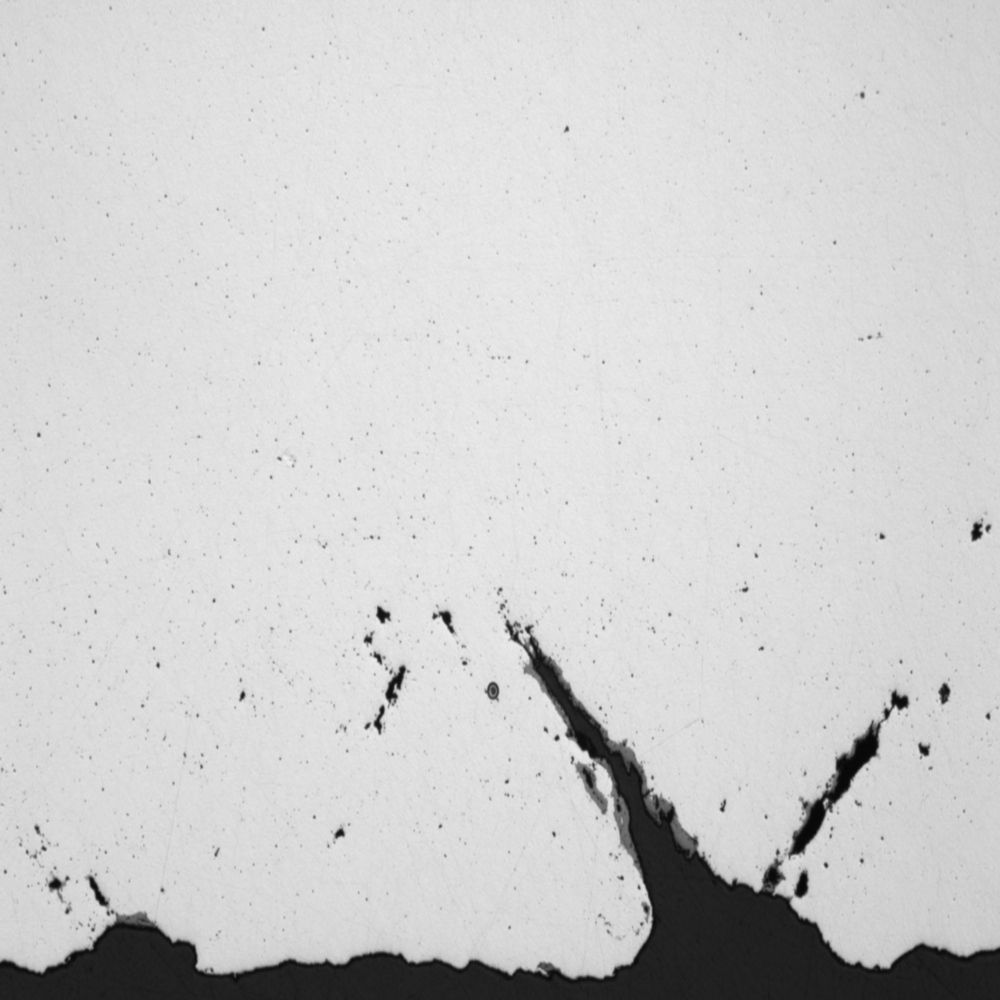crack: (425, 586, 932, 980)
